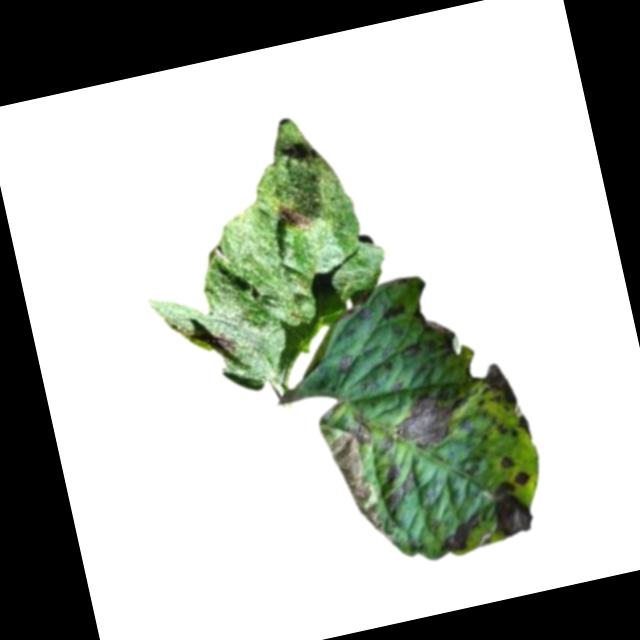Early_blight: (317, 409, 393, 543), (382, 381, 472, 455), (481, 475, 535, 539), (471, 360, 519, 419), (432, 509, 486, 558), (380, 458, 421, 513), (270, 194, 314, 237), (496, 412, 534, 442), (210, 328, 238, 357), (378, 300, 409, 322), (332, 352, 353, 377), (497, 452, 516, 471), (511, 468, 530, 487)
